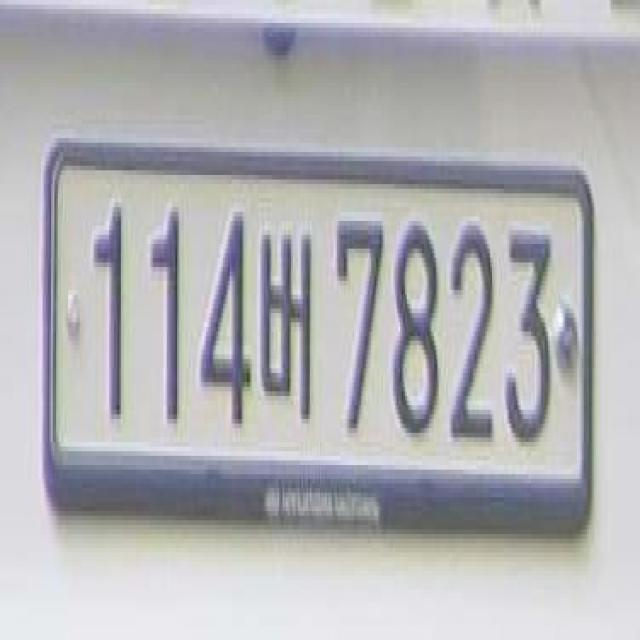illegal_plate: (41, 139, 604, 552)
